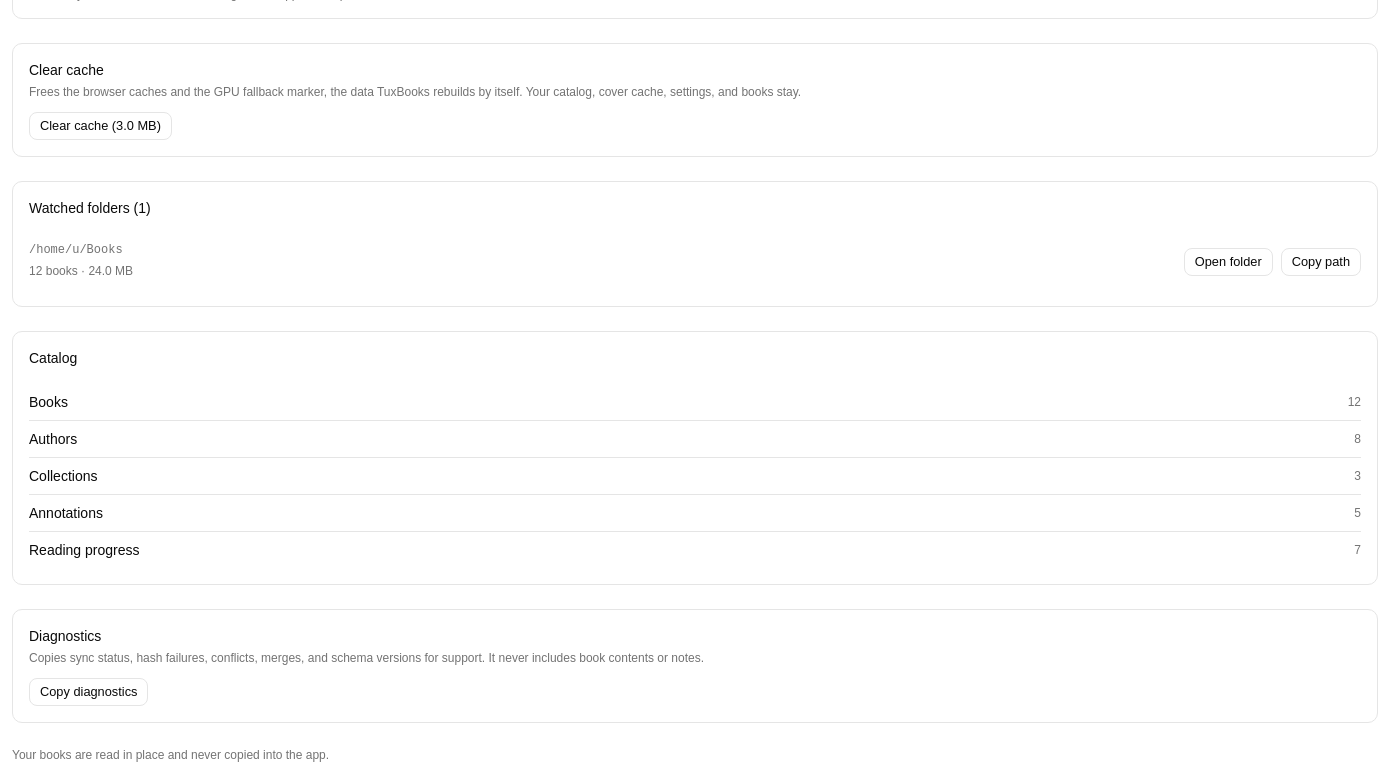
Test: DataSettings › copies diagnostics JSON on click and shows Copied
(page scrolled)
Expected: the element with test id "storage-diagnostics" shows "sync status, hash failures, conflicts, merges, and schema versions", x1=29 y1=651 x2=704 y2=665
Expected: the element with test id "storage-diagnostics" shows "never includes book contents or notes", x1=29 y1=651 x2=704 y2=665
Click the button with test id "copy-diagnostics" at (89, 692), box x1=29 y1=678 x2=148 y2=706
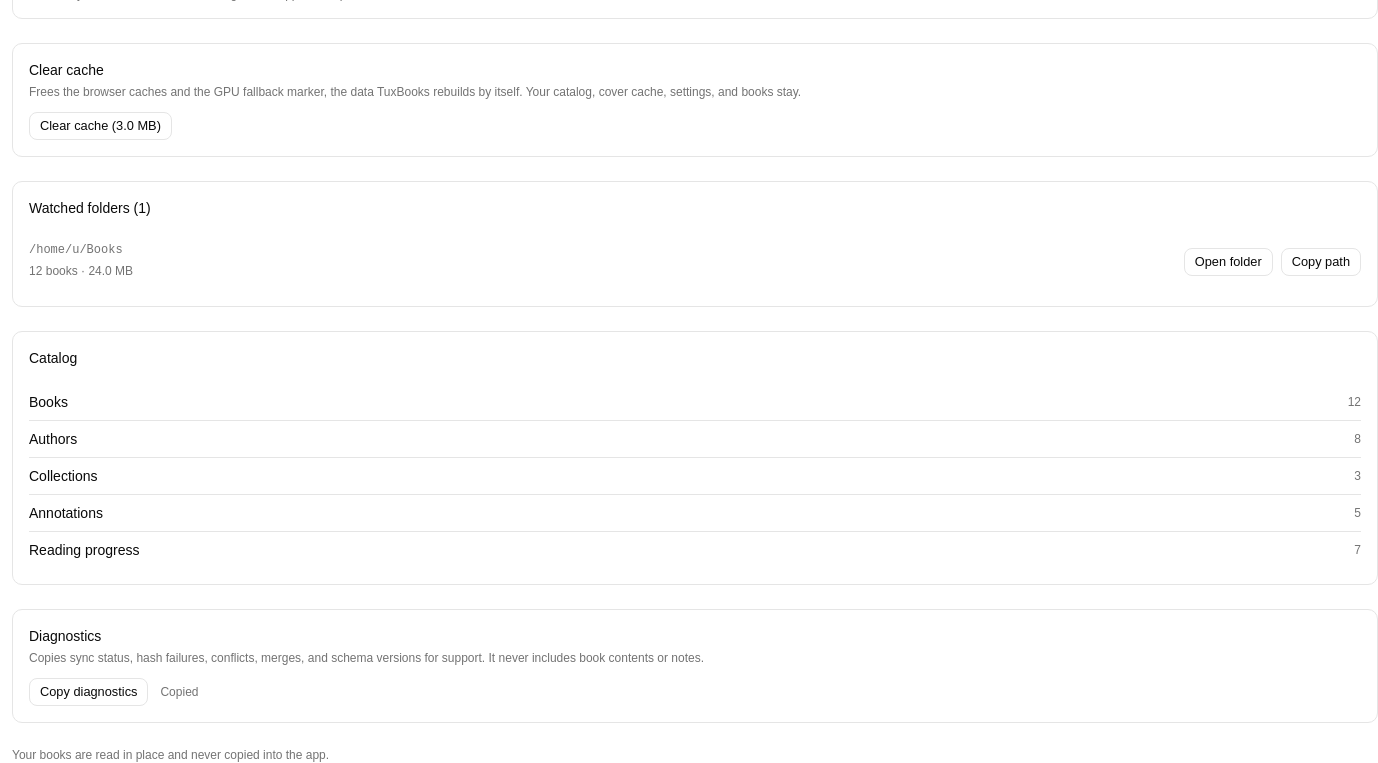
Expected: the message with test id "copy-diagnostics-result" reads "Copied", x1=160 y1=685 x2=198 y2=699
